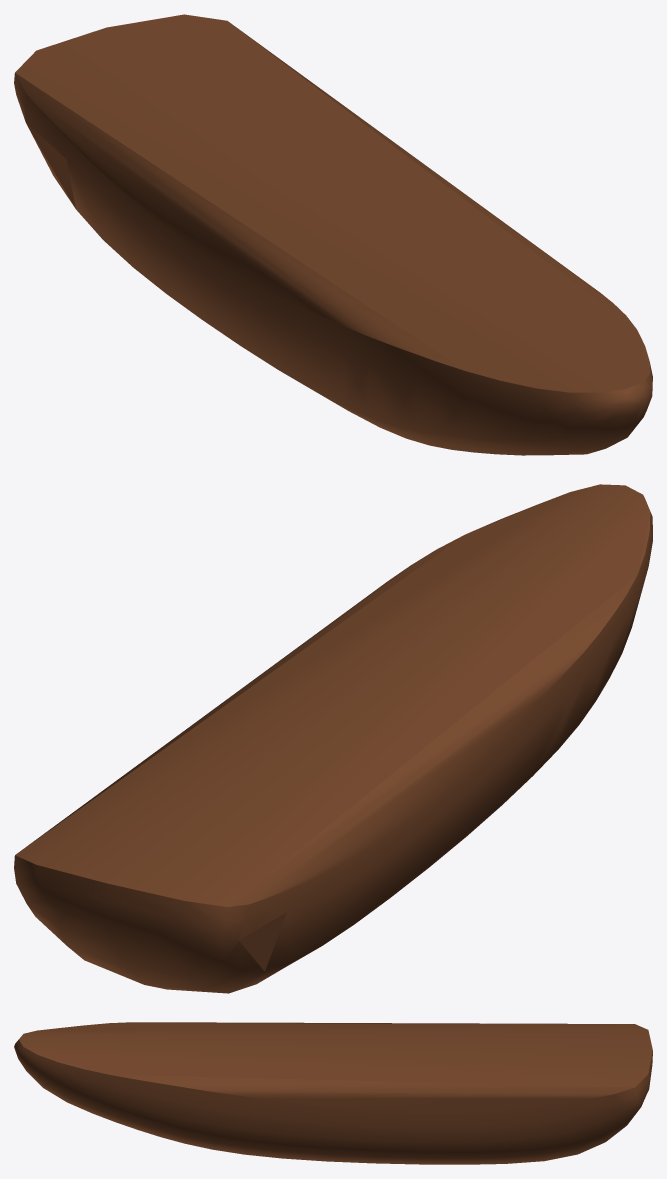
File: BoatMask.fbx
The picture shows the model from 3 angles, top to bottom: view 1: azimuth 30°, elevation 25°; view 2: azimuth 150°, elevation 25°; view 3: azimuth 270°, elevation 25°; orthographic projection. The views are drawn at different scales.
Visible parts, largest first — view 1: coque; view 2: coque; view 3: coque.
Part boxes in pixels (left/top/right/bottom): coque: left=14, top=14, right=652, bottom=455; coque: left=14, top=484, right=652, bottom=993; coque: left=14, top=1022, right=652, bottom=1164.
Size of the model in its own units: 238 by 189 by 971.
